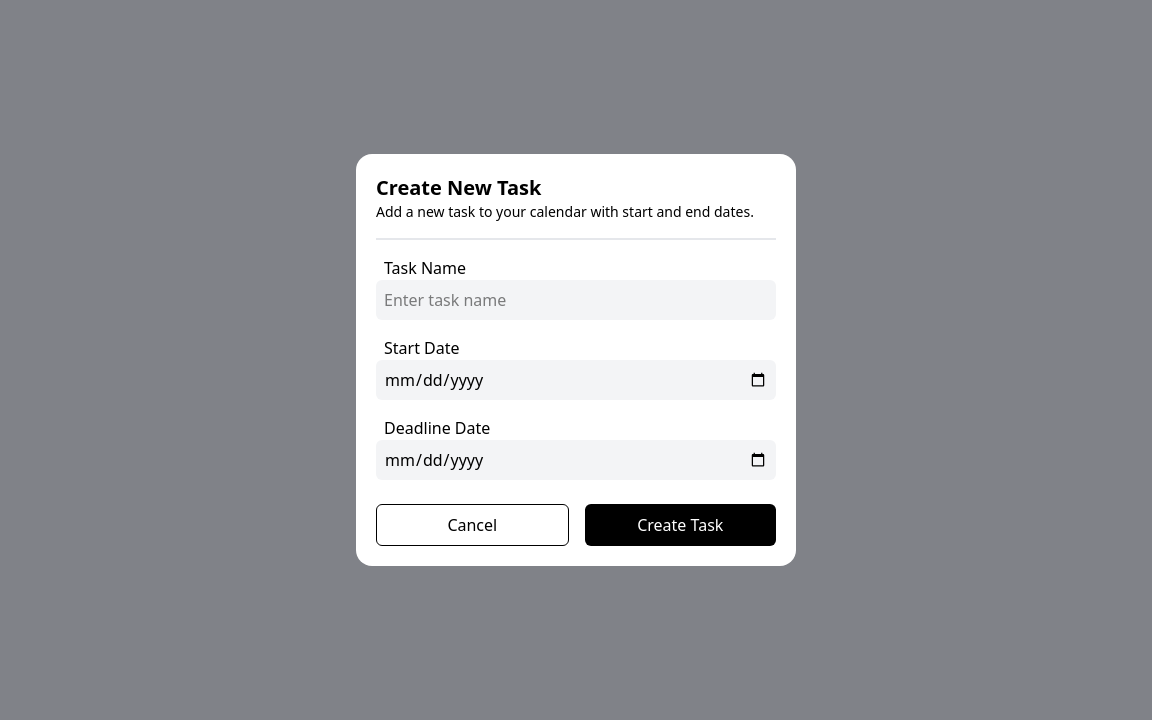
Scenario: NewTask › shows validation error when end date is before start date
The width and height of the screenshot is (1152, 720).
Type "Bad Dates" into the field with placeholder "Enter task name". click: {"x": 576, "y": 300}
box: [376,280,776,320]
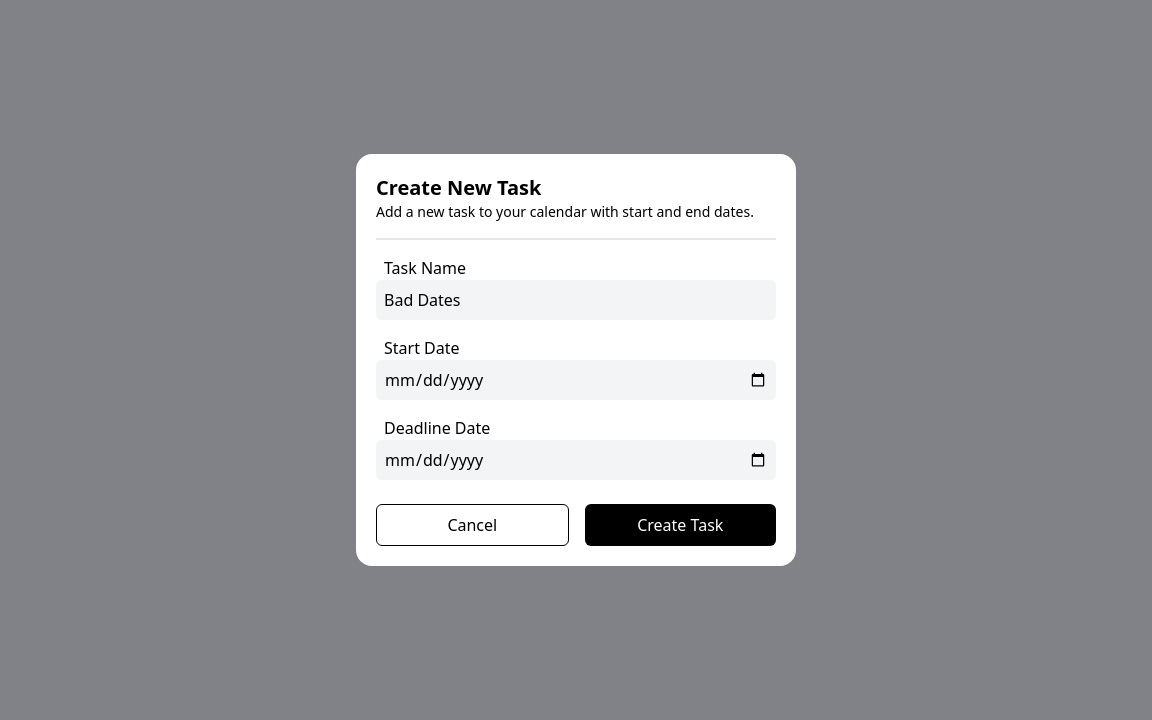
Type "2025-07-15" into the date field labelled "Start Date". click: {"x": 576, "y": 380}
box: [376,360,776,400]
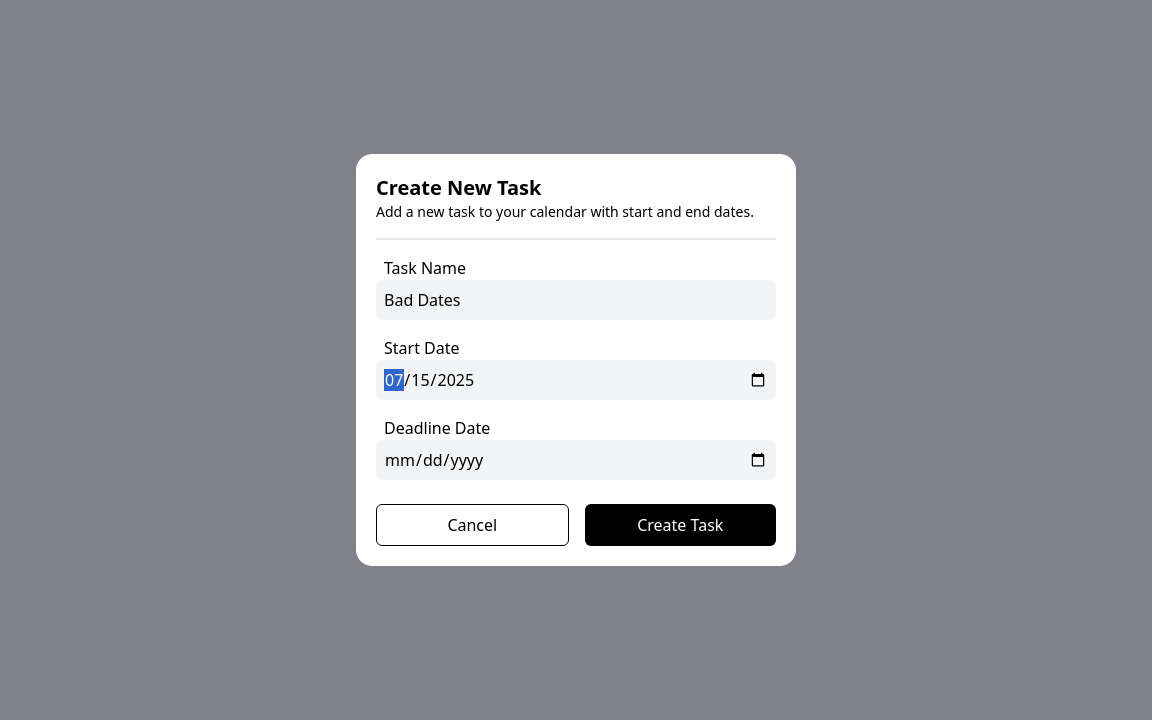
Type "2025-07-01" into the date field labelled "Deadline Date". click: {"x": 576, "y": 460}
box: [376,440,776,480]
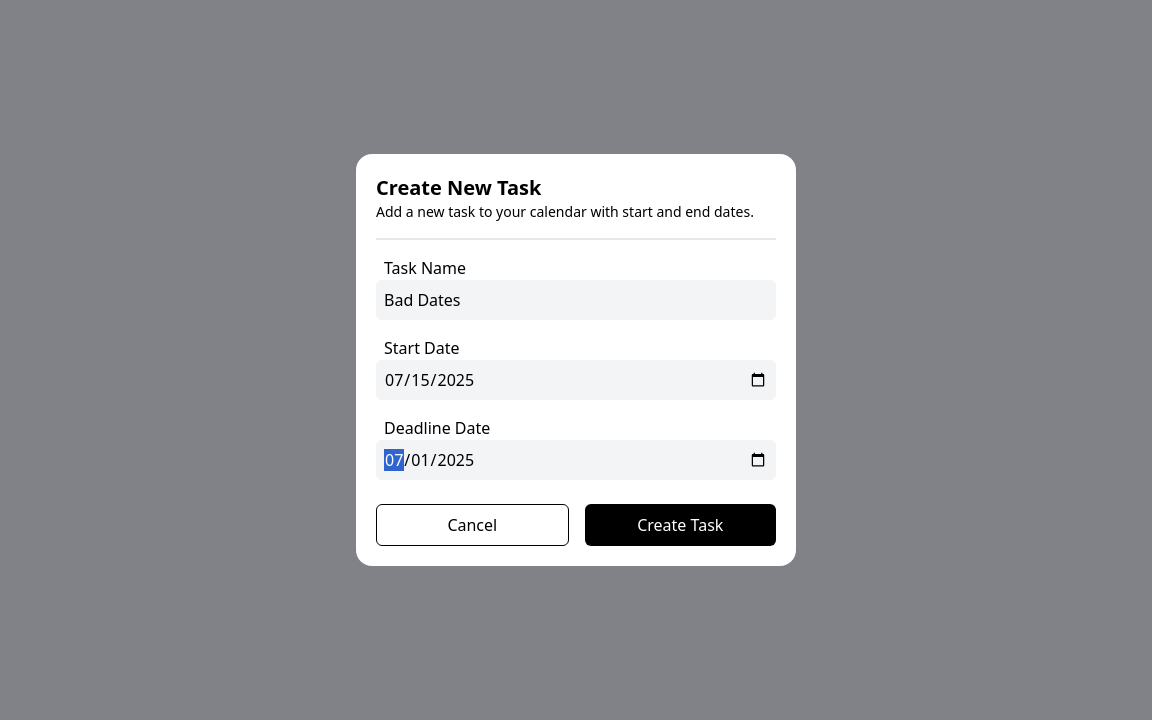
Click the button "Create Task". click: {"x": 680, "y": 525}
box: [585,504,776,546]
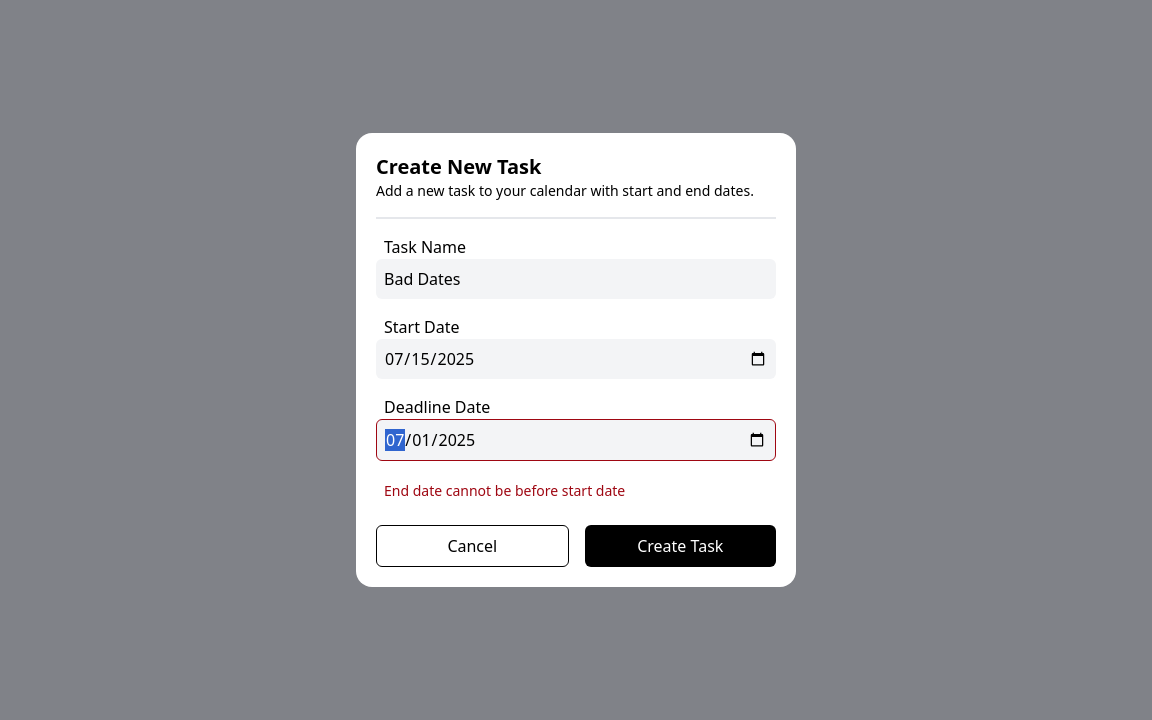
expect the text "End date cannot be before start date" is shown: met, box [384,481,625,500]
